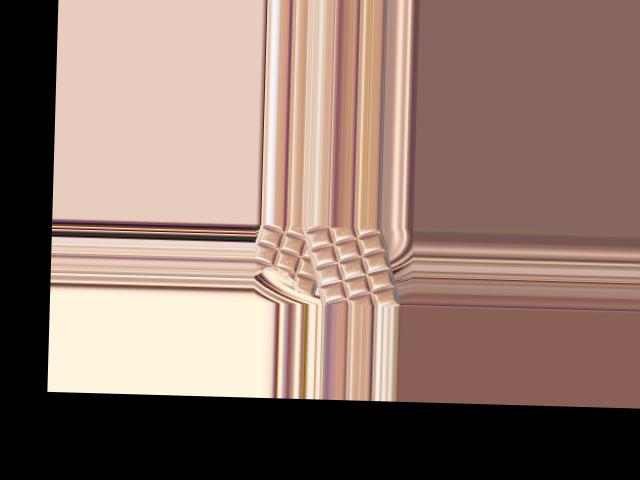chocolate: (299, 224, 404, 305)
